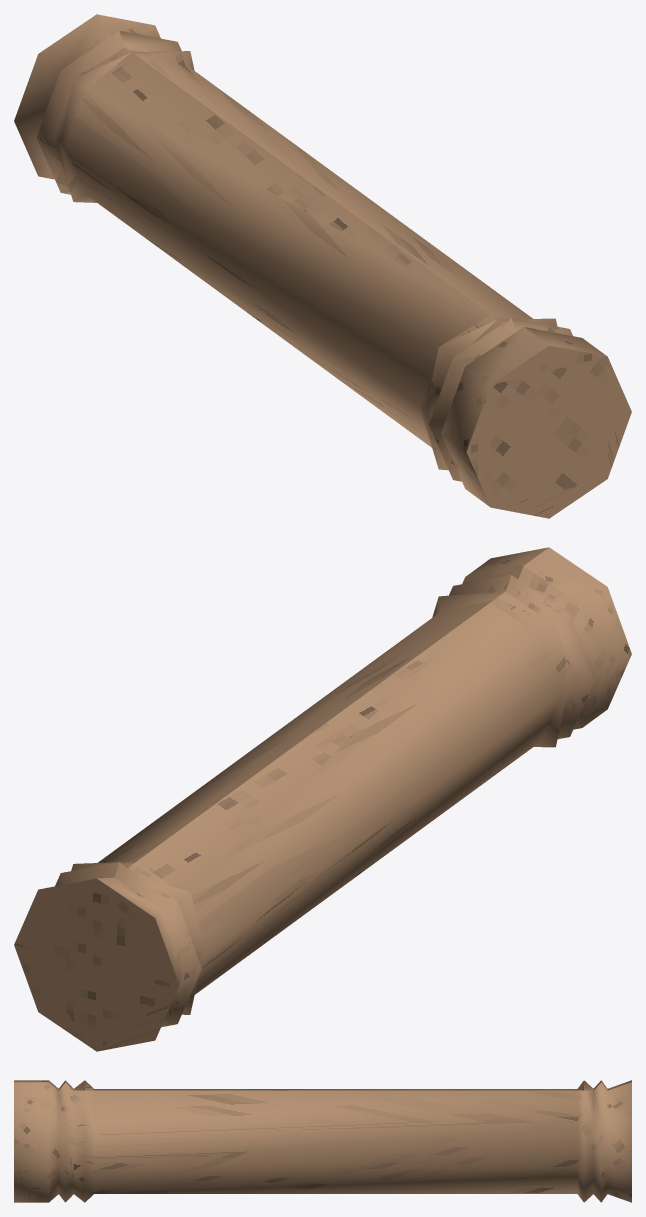
Rendered from pillar.fbx.
3 views of the same model, one above another, from view 1: azimuth 30°, elevation 25°; view 2: azimuth 150°, elevation 25°; view 3: azimuth 270°, elevation 25° (orthographic). The views are drawn at different scales.
Parts seen in each view (by area): view 1: Cylinder09_Material__; view 2: Cylinder09_Material__; view 3: Cylinder09_Material__.
Boxes of the visible parts, bbox=[...] form: Cylinder09_Material__: bbox=[14, 14, 631, 518]; Cylinder09_Material__: bbox=[14, 547, 631, 1051]; Cylinder09_Material__: bbox=[14, 1080, 631, 1202].
Bounding box in the file's own units: 50.48 × 50.48 × 239.
Materials: 1 (1 with a texture image).
